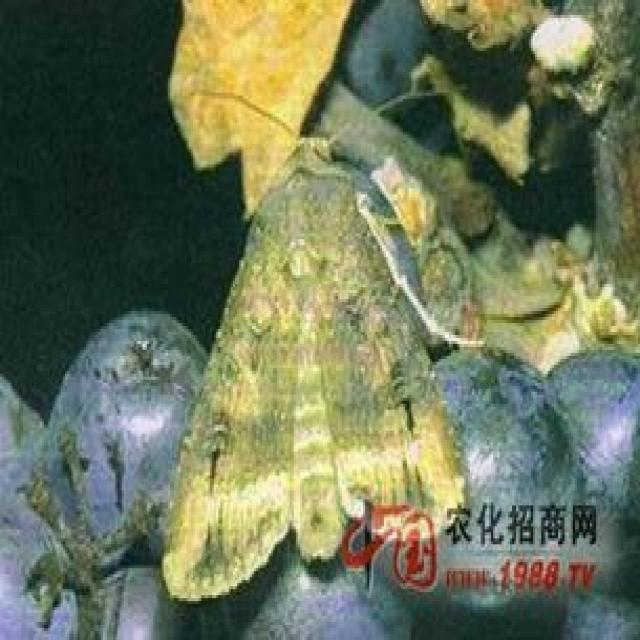black cutworm: (160, 116, 492, 598)
